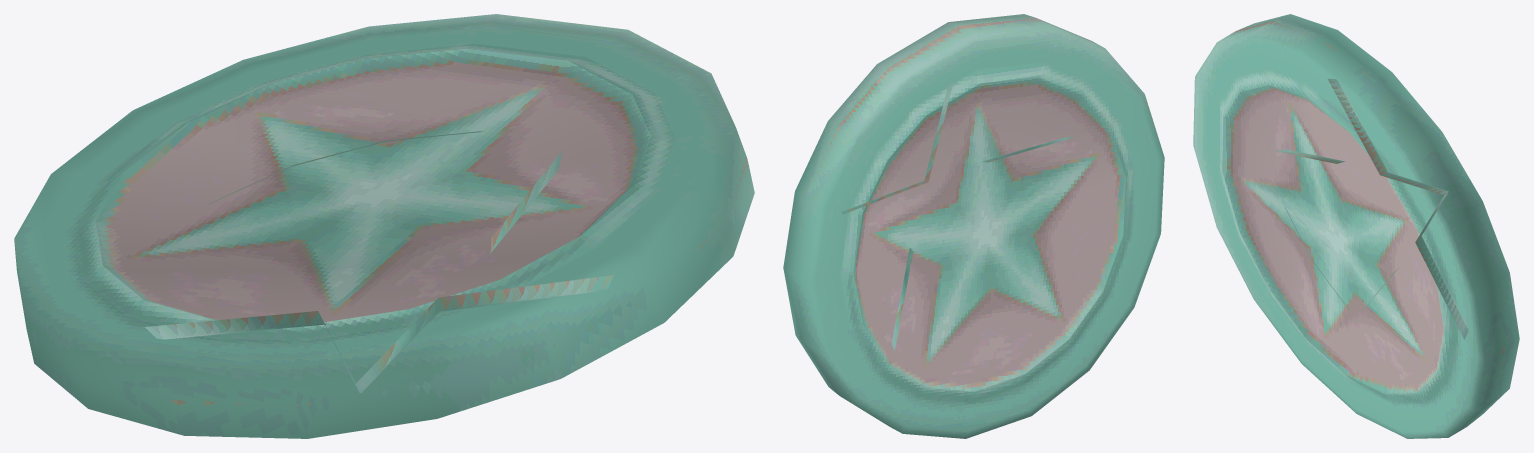
Rendered from ps2_save-icons_thrillville-globalsave.glb.
3 views of the same model, side by side, from view 1: azimuth 30°, elevation 25°; view 2: azimuth 150°, elevation 25°; view 3: azimuth 270°, elevation 25° (orthographic). The views are drawn at different scales.
Visible parts, largest first — view 1: ucp.ico; view 2: ucp.ico; view 3: ucp.ico.
Boxes of the visible parts, x1,y1,x2,y2 form: ucp.ico: (14, 14, 754, 438); ucp.ico: (783, 14, 1164, 438); ucp.ico: (1193, 14, 1519, 438).
Size of the model in its own units: 4.79 by 4.11 by 3.45.
Materials: 1 (1 with a texture image).
